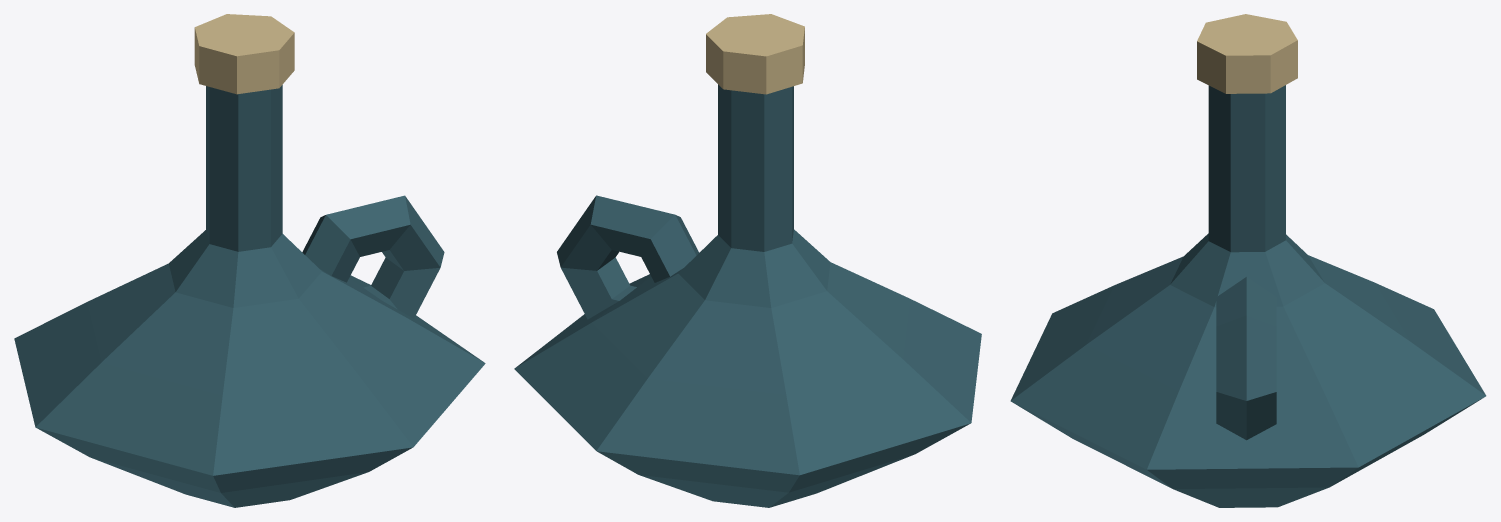
File: HandlePotion.013.fbx
The picture shows the model from 3 angles, left to right: view 1: azimuth 30°, elevation 25°; view 2: azimuth 150°, elevation 25°; view 3: azimuth 270°, elevation 25°; orthographic projection.
Visible parts, largest first — view 1: HandlePotion.013; view 2: HandlePotion.013; view 3: HandlePotion.013.
Boxes of the visible parts, x1=… form: HandlePotion.013: x1=14, y1=14, x2=485, y2=507; HandlePotion.013: x1=514, y1=14, x2=981, y2=507; HandlePotion.013: x1=1010, y1=14, x2=1486, y2=507.
Size of the model in its own units: 18.39 by 18.99 by 18.37.
